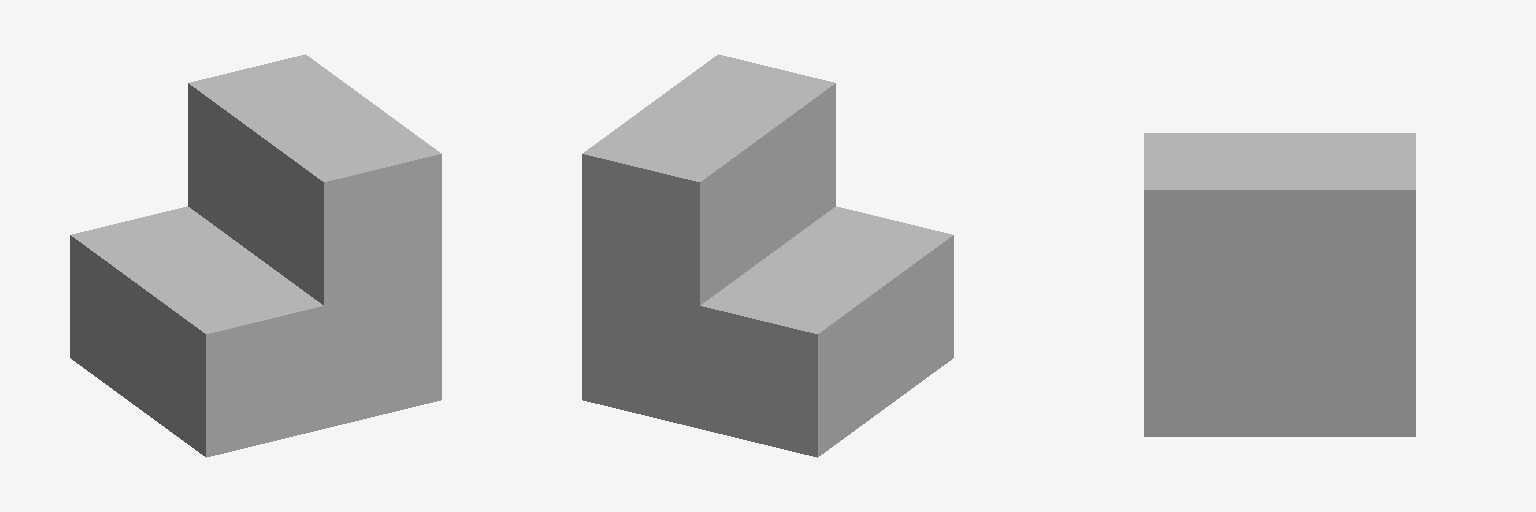
File: stairs.obj
The picture shows the model from 3 angles: view 1: azimuth 30°, elevation 25°; view 2: azimuth 150°, elevation 25°; view 3: azimuth 270°, elevation 25°; orthographic projection.
Parts seen in each view (by area): view 1: cube, cube.001; view 2: cube, cube.001; view 3: cube.001, cube.
Boxes of the visible parts, x1,y1,x2,y2 form: cube: [70, 206, 441, 457]; cube.001: [188, 54, 441, 305]; cube: [582, 206, 953, 457]; cube.001: [582, 54, 835, 305]; cube.001: [1144, 133, 1415, 312]; cube: [1144, 313, 1415, 436].
Size of the model in its own units: 1 by 1 by 1.